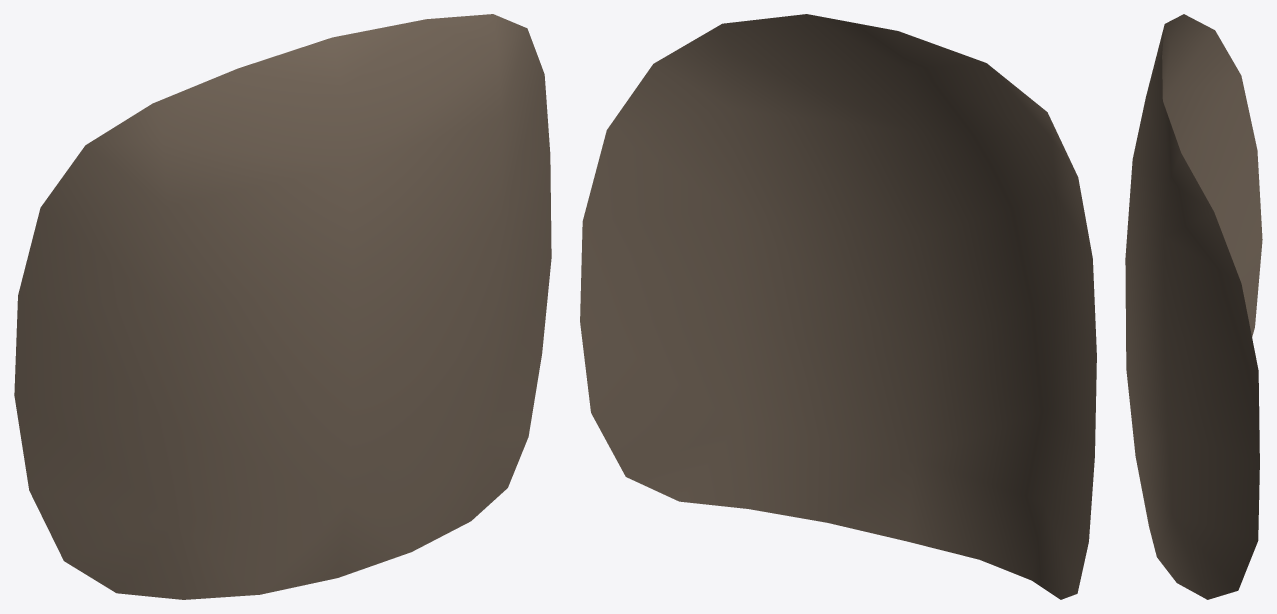
The model's file is MD_nail_FootR.Ring.fbx.
The picture shows the model from 3 angles, left to right: view 1: azimuth 30°, elevation 25°; view 2: azimuth 150°, elevation 25°; view 3: azimuth 270°, elevation 25°; orthographic projection. The views are drawn at different scales.
Parts seen in each view (by area): view 1: MD_nail_FootR.Ring; view 2: MD_nail_FootR.Ring; view 3: MD_nail_FootR.Ring.
Part boxes in pixels (<box>): MD_nail_FootR.Ring: <box>14,14,551,599</box>; MD_nail_FootR.Ring: <box>580,14,1096,599</box>; MD_nail_FootR.Ring: <box>1125,14,1262,599</box>.
Size of the model in its own units: 0.6334 by 0.6041 by 0.1591.
